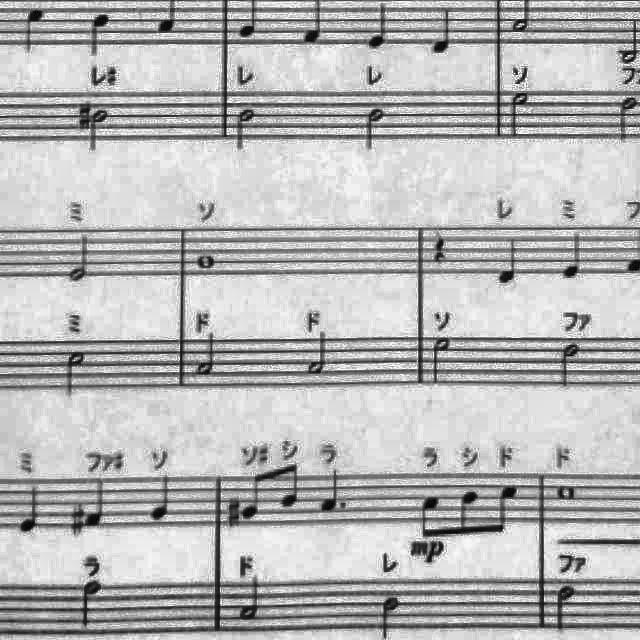Diez: (74, 96, 94, 136), (222, 493, 242, 531)
Eighth-note: (493, 479, 523, 537), (454, 485, 482, 539), (416, 493, 444, 541), (277, 459, 301, 509), (240, 470, 262, 522)
Full-note: (192, 250, 222, 274), (552, 481, 580, 504)
Half-note: (64, 228, 96, 284), (550, 580, 580, 636), (425, 331, 455, 387), (302, 328, 334, 379), (77, 577, 106, 633), (61, 346, 90, 398), (237, 574, 266, 626), (504, 85, 532, 138), (556, 338, 584, 390), (362, 104, 390, 156), (230, 104, 258, 156), (194, 329, 222, 381), (616, 11, 640, 65), (376, 594, 404, 640), (616, 92, 640, 144), (91, 106, 112, 158)
Quarter-dot: (316, 466, 356, 516)
Quarter-note: (558, 225, 588, 282), (495, 234, 525, 290), (86, 8, 118, 60), (21, 5, 51, 59), (145, 471, 175, 525), (16, 482, 44, 538), (365, 0, 394, 52), (428, 6, 456, 58), (81, 474, 107, 530)
Quarter-rest: (429, 227, 455, 267)
